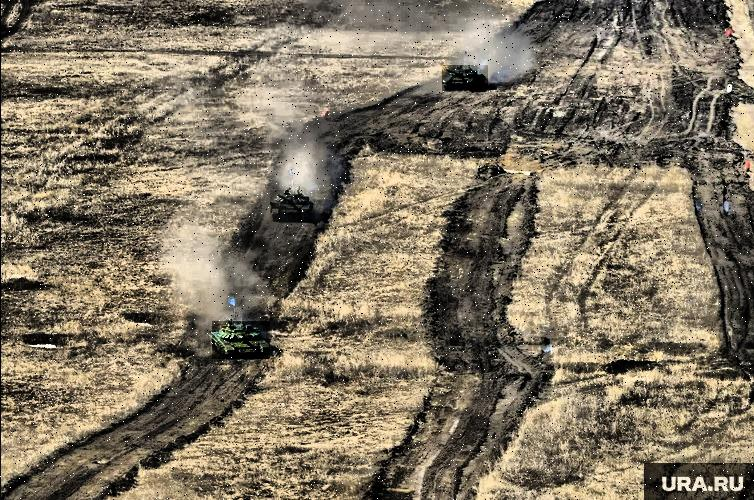military-vehicle: (212, 321, 270, 359), (271, 190, 316, 222), (442, 66, 488, 92)
